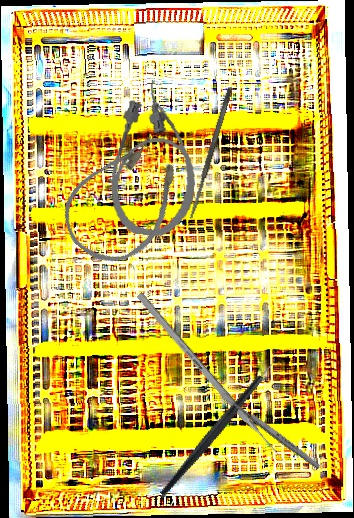Cannula: (48, 120, 203, 280), (105, 77, 207, 240)
Chopper: (124, 345, 313, 499)
Pusher: (135, 292, 291, 468)
Spatula Surgical: (186, 86, 235, 221)
Surgical Spoon: (219, 391, 323, 471)
